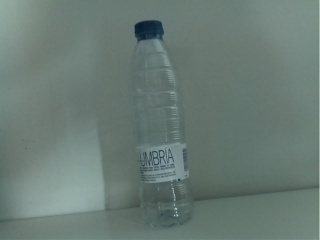botella plastico: (132, 20, 192, 230)
